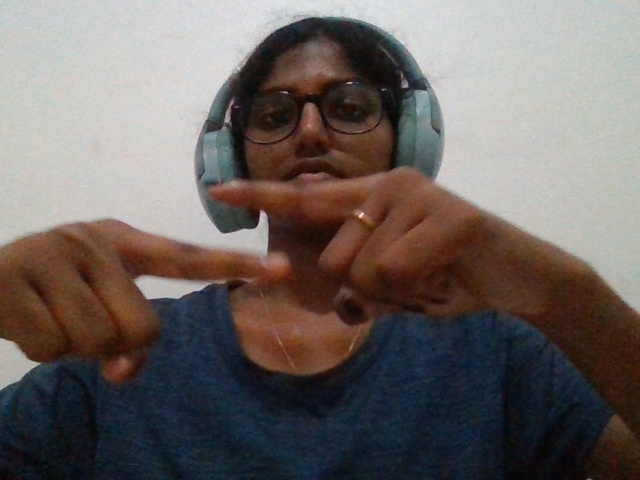Sign: (1, 144, 619, 414)
